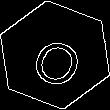O_N: (24, 23, 86, 87)
